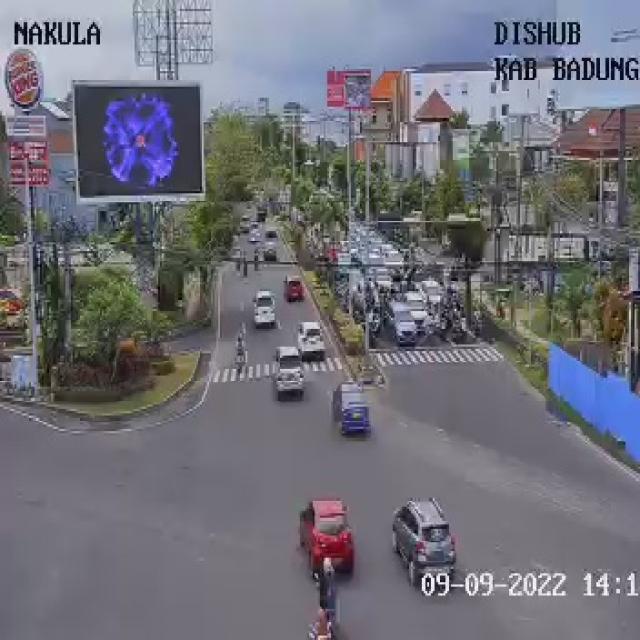car: (394, 498, 456, 584), (299, 499, 354, 572), (332, 382, 370, 434), (274, 346, 305, 400), (391, 302, 418, 346), (298, 321, 326, 361), (254, 290, 276, 328), (285, 275, 304, 302)
motorcyclist: (308, 558, 335, 640), (235, 322, 248, 367)
